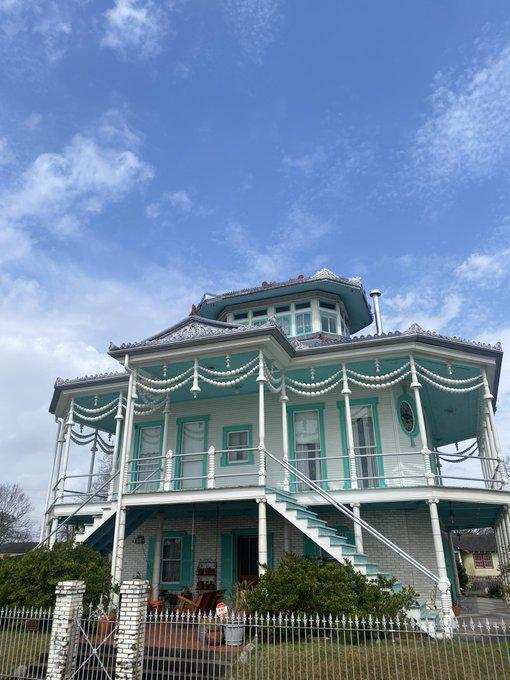affected: (52, 270, 506, 657)
